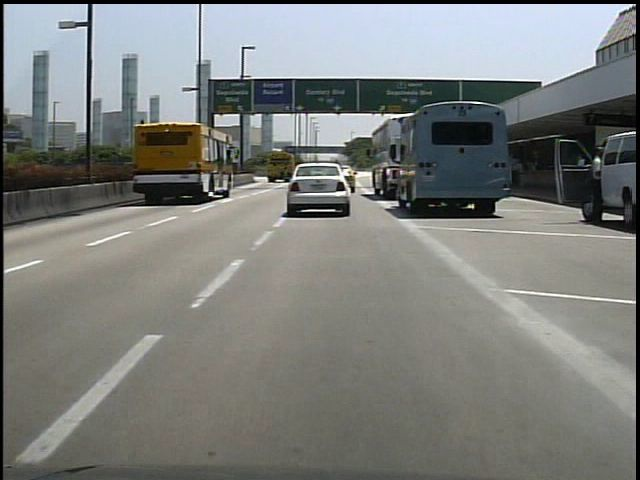person: (586, 139, 604, 228)
